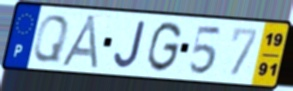5: (188, 24, 225, 76)
7: (229, 26, 260, 79)
A: (58, 14, 102, 71)
G: (145, 20, 184, 74)
J: (112, 19, 148, 70)
Q: (30, 13, 72, 64)
